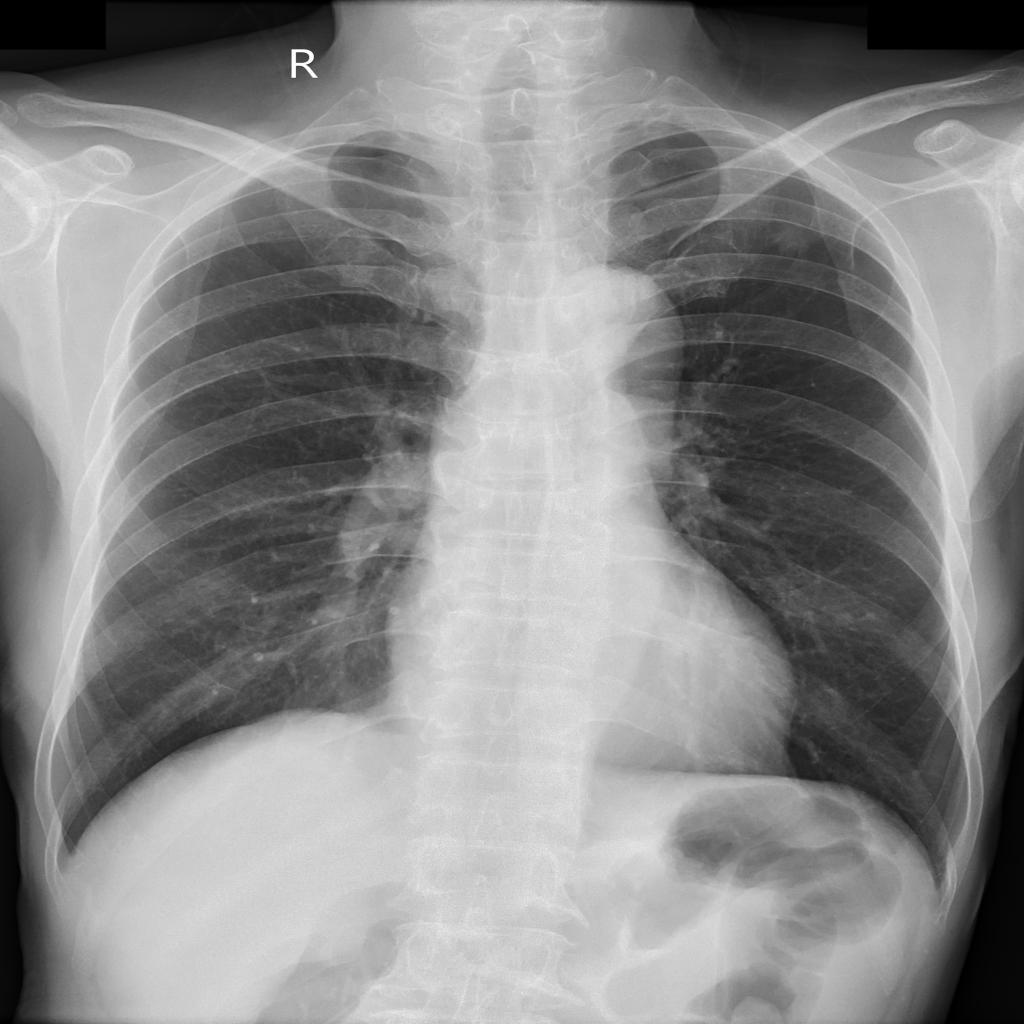Nodule: (776, 213, 824, 254)
